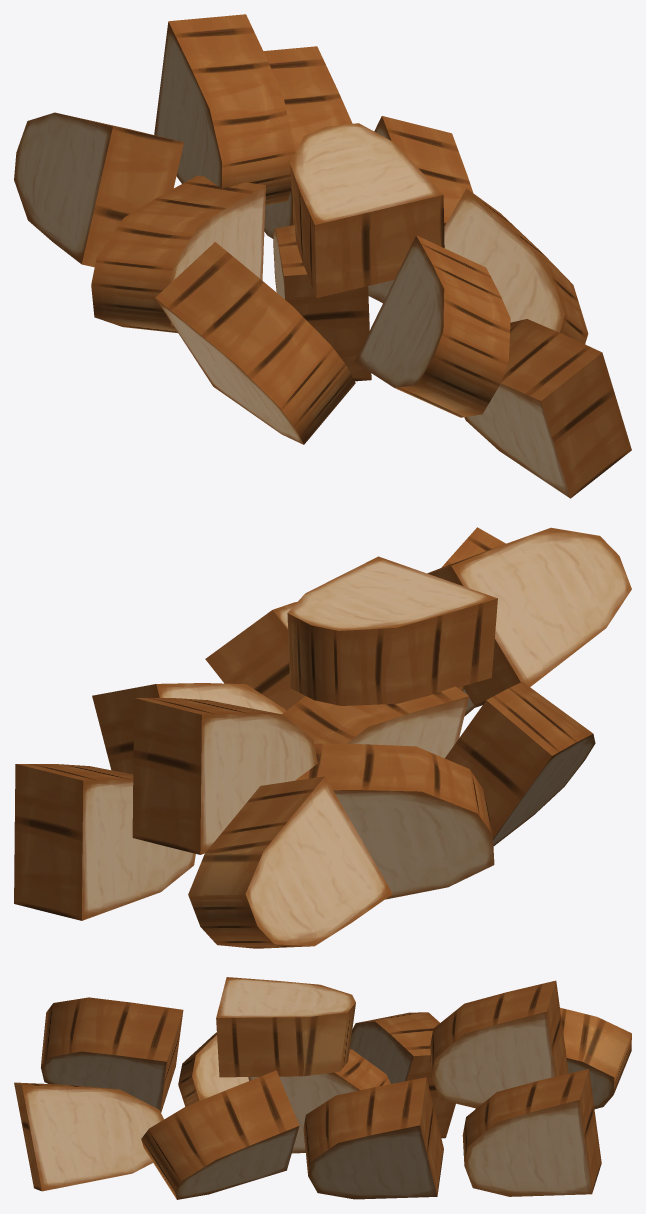
File: Chicken_InBurrito.fbx
The picture shows the model from 3 angles, top to bottom: view 1: azimuth 30°, elevation 25°; view 2: azimuth 150°, elevation 25°; view 3: azimuth 270°, elevation 25°; orthographic projection. The views are drawn at different scales.
Parts seen in each view (by area): view 1: Chicken_InBurrito; view 2: Chicken_InBurrito; view 3: Chicken_InBurrito.
Boxes of the visible parts, x1,y1,x2,y2 form: Chicken_InBurrito: (14, 14, 631, 498); Chicken_InBurrito: (14, 527, 631, 948); Chicken_InBurrito: (14, 977, 631, 1199).
Size of the model in its own units: 0.4282 by 0.2656 by 0.8034.
1 material, 1 textured.
